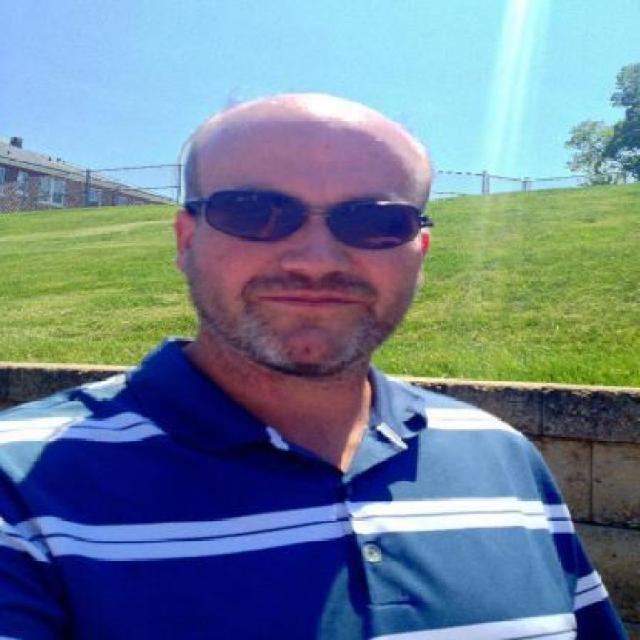face_nomask: (212, 174, 408, 352)
glasses: (178, 180, 430, 245)
head_nohelmet: (185, 87, 430, 170)
person: (0, 29, 631, 640)
